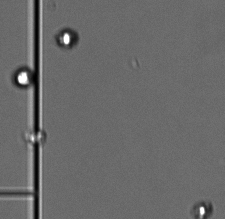Living Cell: (12, 64, 35, 90), (56, 26, 79, 49)
